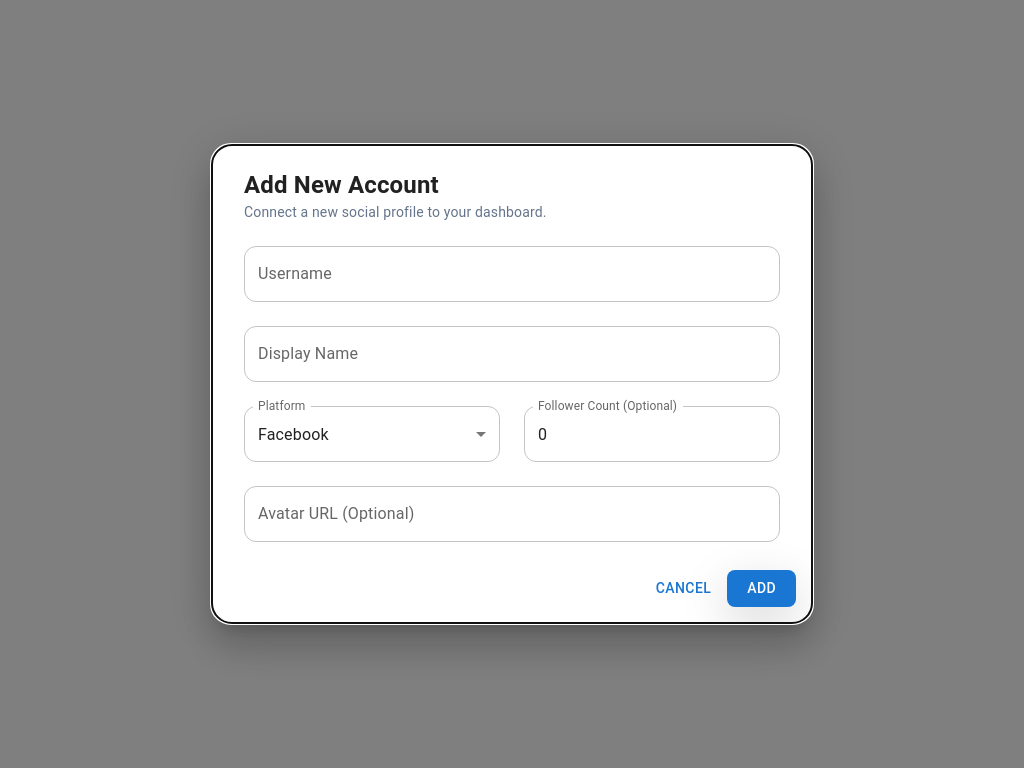
AddEditAccountModal › prevents adding an account when that platform already exists
The width and height of the screenshot is (1024, 768).
Step 1. Type "newuser" into the field labelled "Username" → (512, 274), box [244,246,780,302]
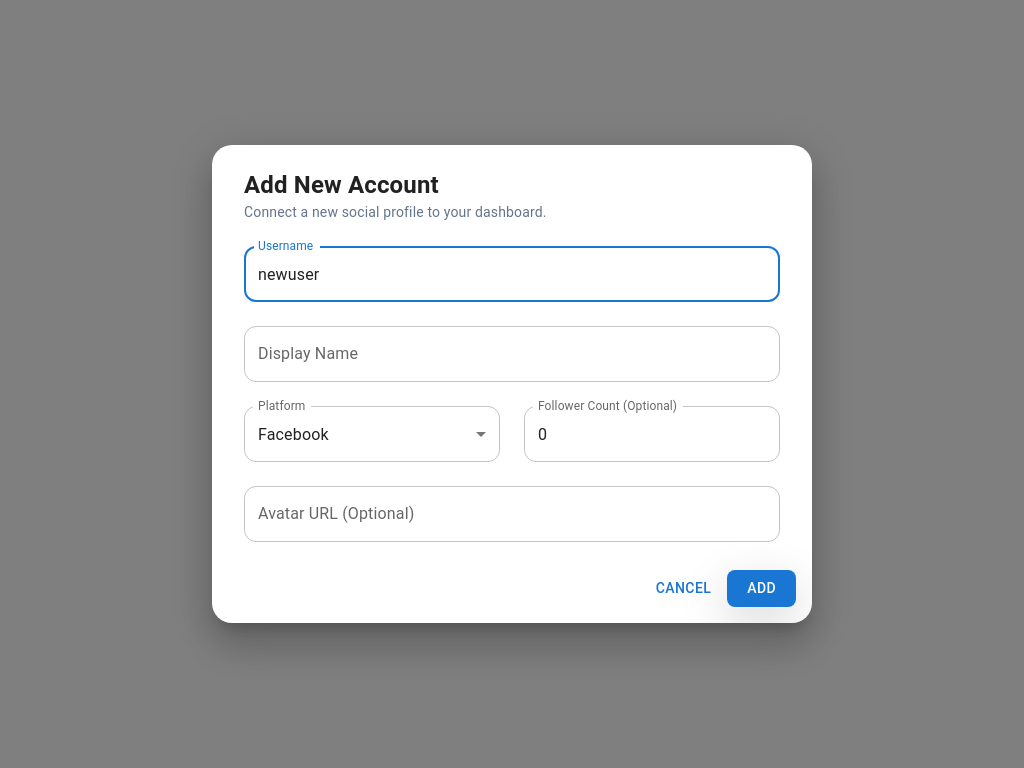
Step 2. Type "New User" into the field labelled "Display Name" → (512, 354), box [244,326,780,382]
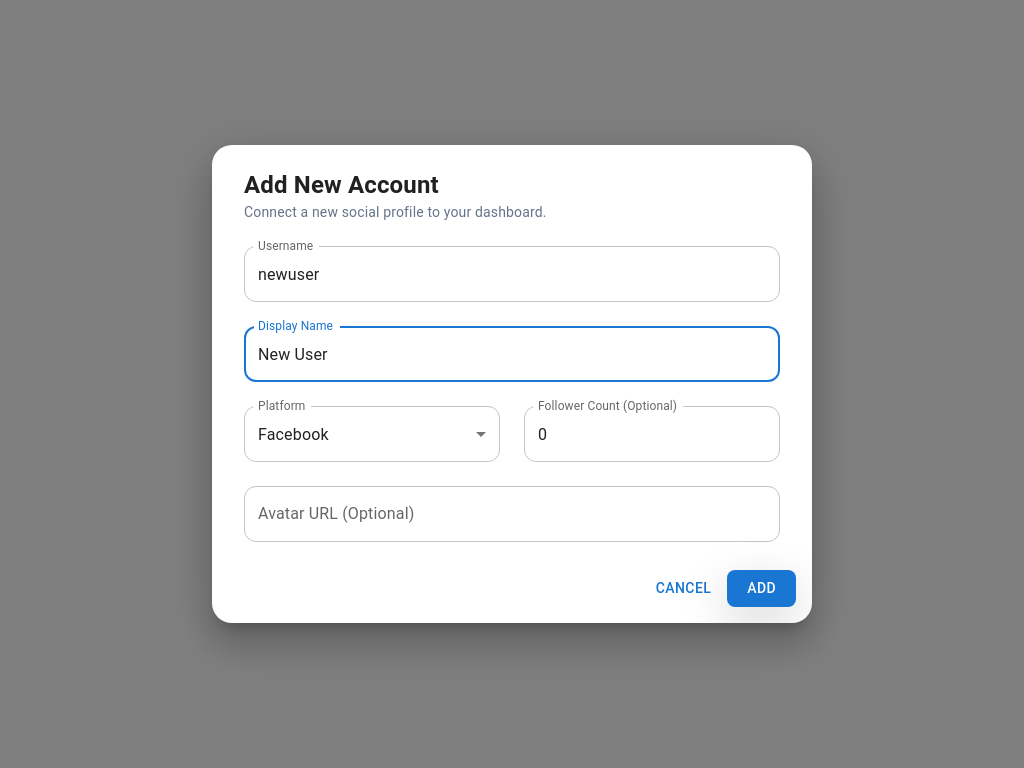
# Default platform is "facebook" → should trip the duplicate check on submit.
Step 3. Click the button "Add" → (762, 589), box [727,570,796,607]
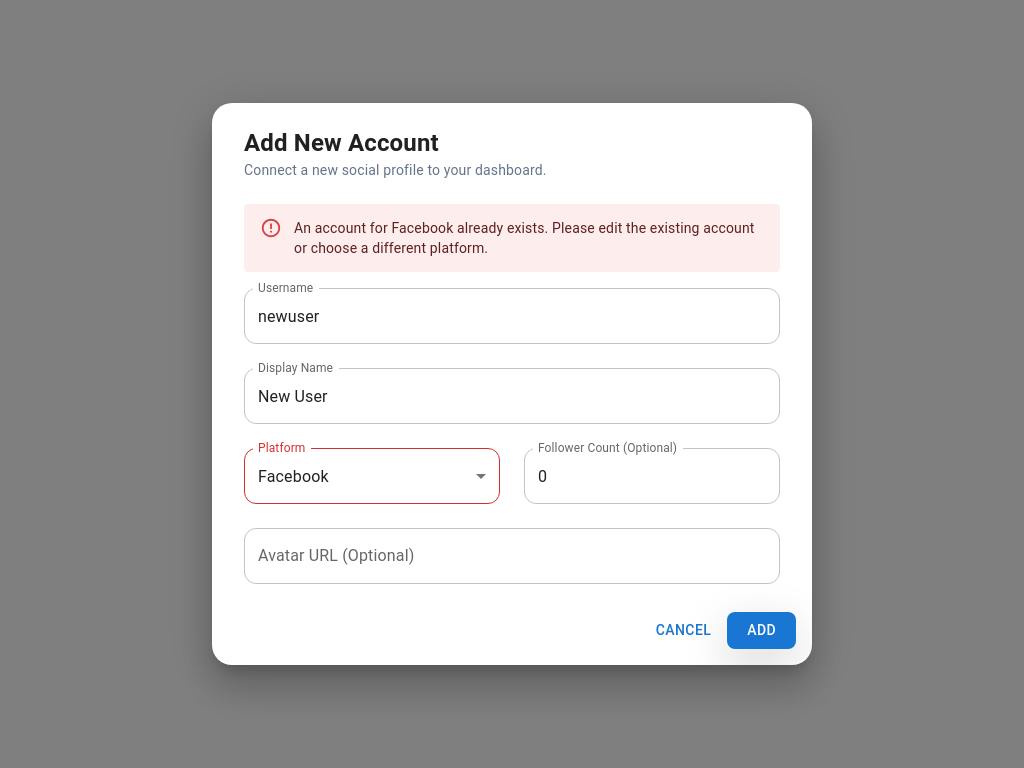
Expected: the text "already exists" is shown, [294,220,755,256]
